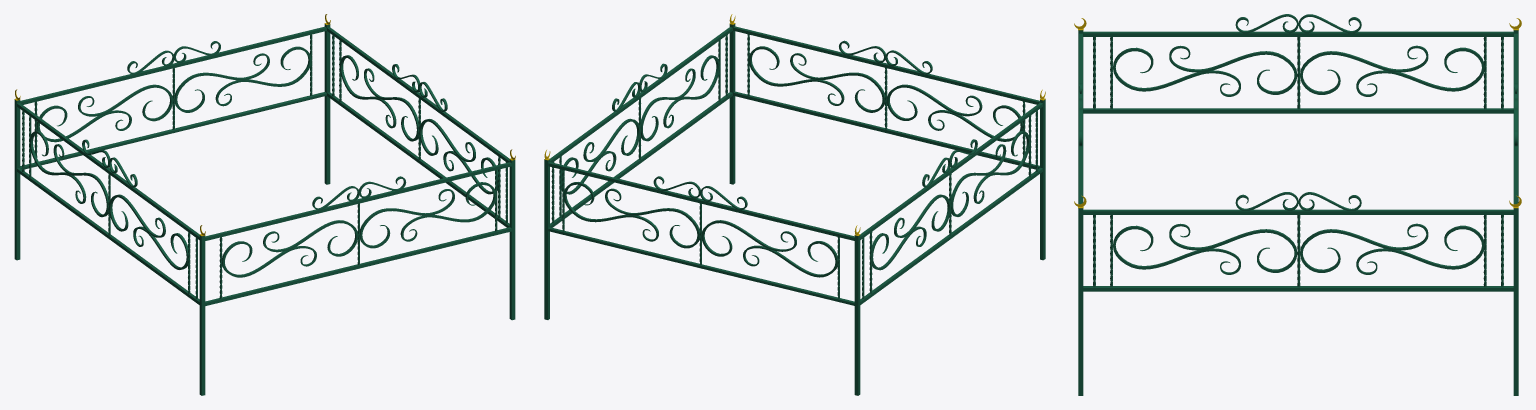
Rendered from Ковка 2 полумесяц  [u_2_muslim] (green).glb.
The picture shows the model from 3 angles, left to right: view 1: azimuth 30°, elevation 25°; view 2: azimuth 150°, elevation 25°; view 3: azimuth 270°, elevation 25°; orthographic projection. The views are drawn at different scales.
Visible parts, largest first — view 1: ograda-magnolia-muslim; view 2: ograda-magnolia-muslim; view 3: ograda-magnolia-muslim.
Boxes of the visible parts, x1,y1,x2,y2 form: ograda-magnolia-muslim: [14, 14, 515, 395]; ograda-magnolia-muslim: [544, 14, 1045, 395]; ograda-magnolia-muslim: [1074, 14, 1521, 395].
Bounding box in the file's own units: 2.11 × 1.11 × 2.22.
